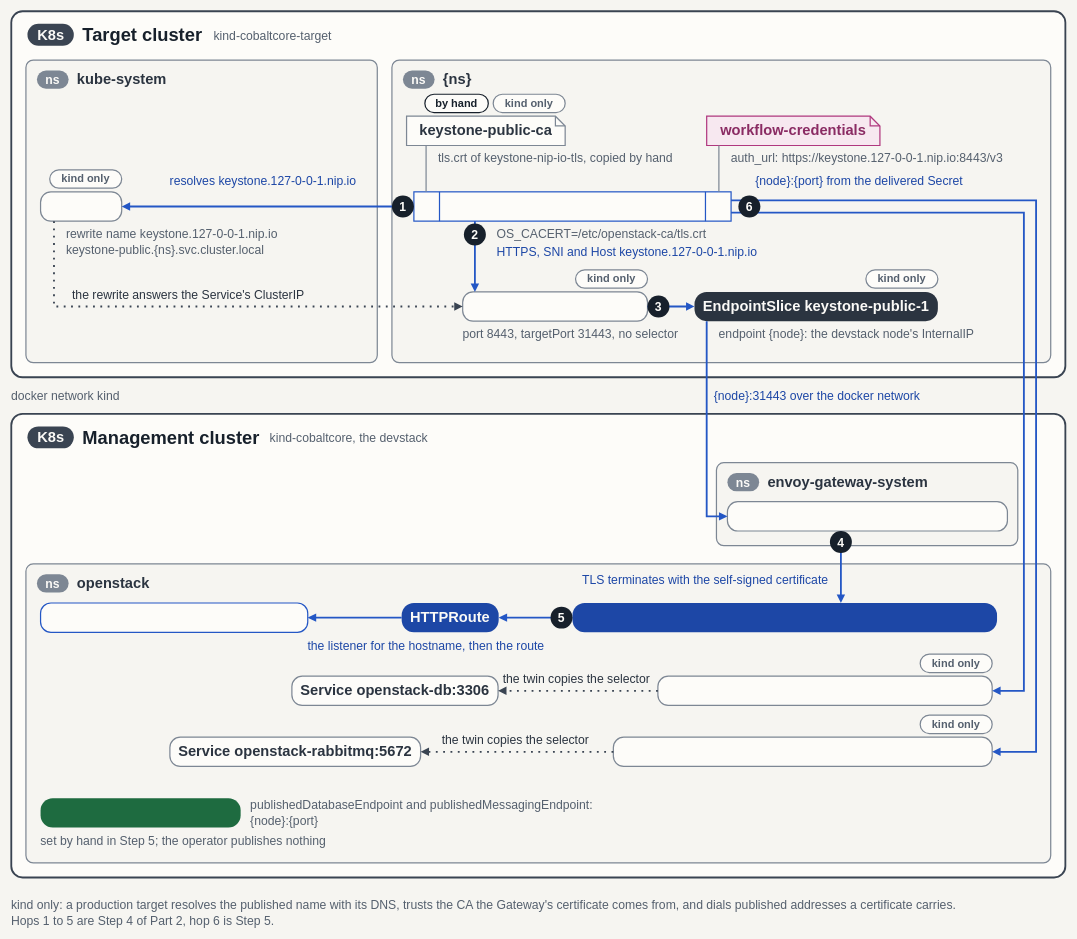
Some shapes in this 1077 by 939 pixel diagram are drawn without their labels. The shapes that lost their labels are listed below. From the top down, each one's centre as x and y in pixels, then its label:
At (81,206): "CoreDNS".
At (572,206): "Job workflow-verify".
At (555,306): "Service keystone-public".
At (867,516): "Envoy proxy Service, NodePort 31443".
At (174,617): "Service controlplane-keystone:5000".
At (784,617): "Gateway openstack-gw, listener keystone.127-0-0-1.nip.io".
At (824,690): "Service openstack-db-public, NodePort {port}".
At (802,751): "Service openstack-rabbitmq-public, NodePort {port}".
At (140,812): "ControlPlane controlplane".
